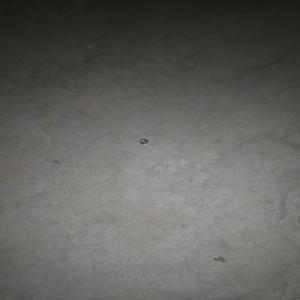Nut: (138, 138, 148, 144)
